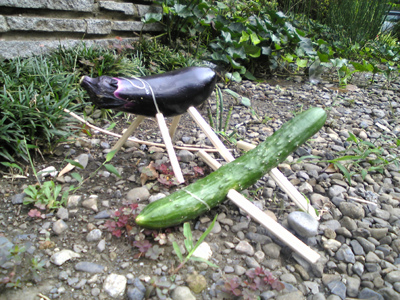cucumber: (130, 105, 330, 229)
